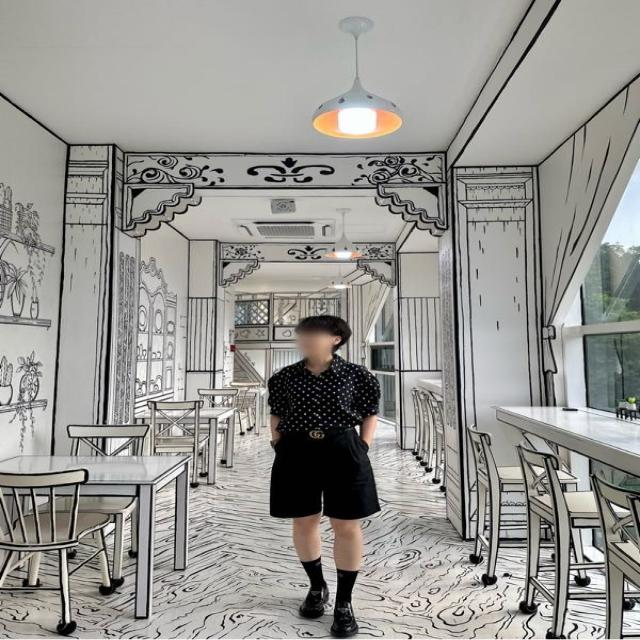shirt: (267, 356, 376, 432)
shortpants: (268, 426, 383, 521)
